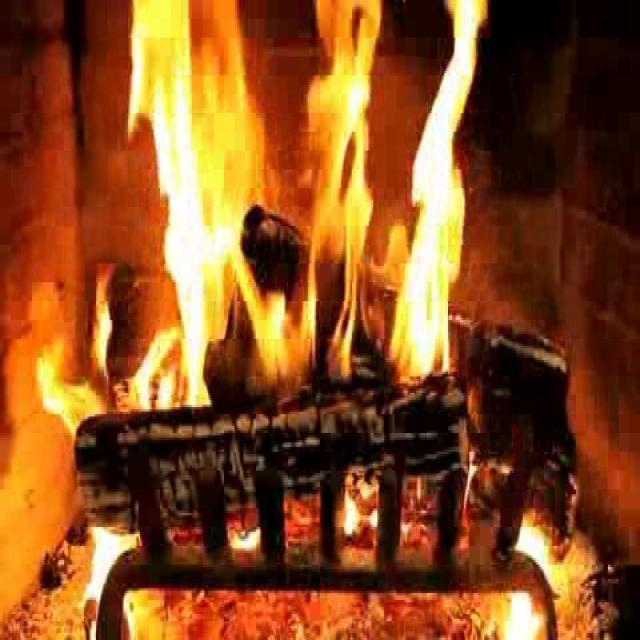Fire: (117, 6, 487, 394)
